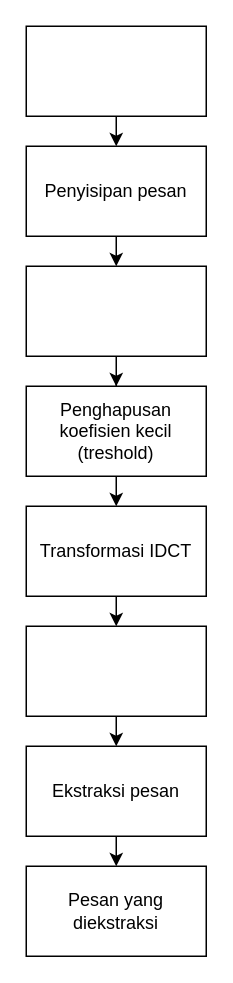
Image size: 233x983. Some labels were removed from this diagram. Each missing label, with the box of its shape:
Gambar terkompresi dengan pesan: (25, 625, 206, 716)
Input gambar asli dengan pesan Stegano: (25, 25, 206, 116)
Transformasi DCT: (25, 265, 206, 356)
